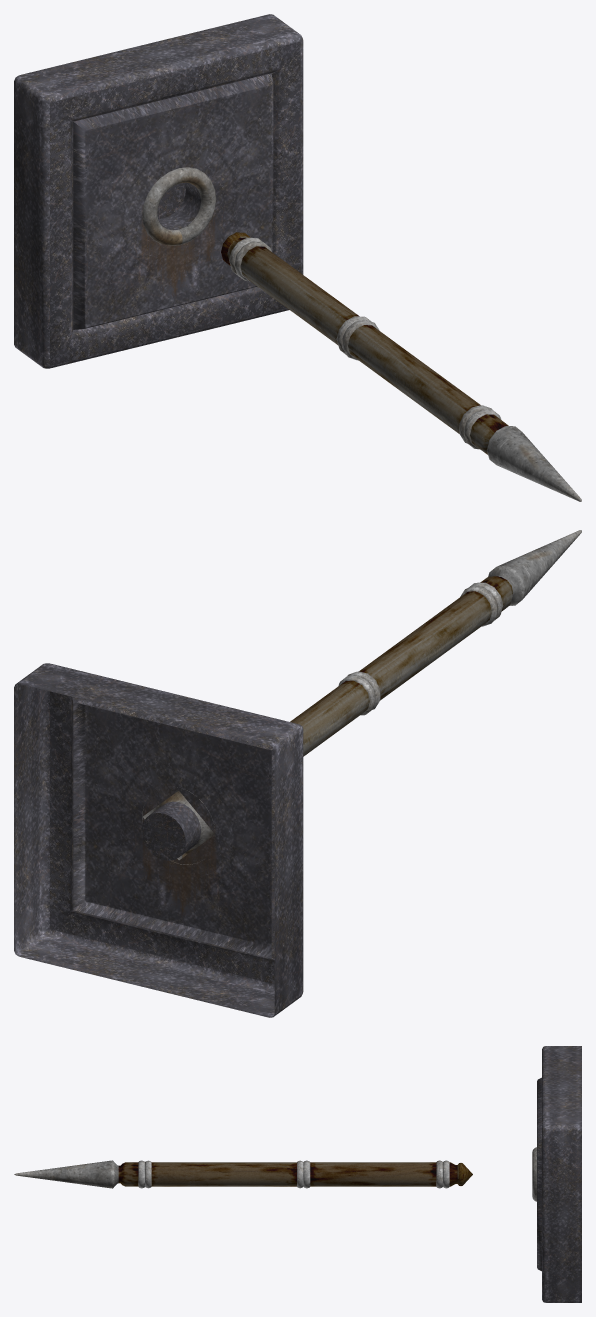
File: trap.obj
3 views of the same model, one above another, from view 1: azimuth 30°, elevation 25°; view 2: azimuth 150°, elevation 25°; view 3: azimuth 270°, elevation 25° (orthographic). The views are drawn at different scales.
Visible parts, largest first — view 1: SpearTrap_01_Circle.002, Spear_ammo_Circle.003; view 2: SpearTrap_01_Circle.002, Spear_ammo_Circle.003; view 3: SpearTrap_01_Circle.002, Spear_ammo_Circle.003.
Boxes of the visible parts, <box> form: SpearTrap_01_Circle.002: <box>14,14,303,368</box>; Spear_ammo_Circle.003: <box>221,232,581,501</box>; SpearTrap_01_Circle.002: <box>14,663,303,1017</box>; Spear_ammo_Circle.003: <box>290,530,581,756</box>; SpearTrap_01_Circle.002: <box>532,1046,581,1302</box>; Spear_ammo_Circle.003: <box>14,1160,472,1188</box>.
Bounding box in the file's own units: 0.18 × 0.18 × 0.5232.
Materials: 1 (1 with a texture image).
